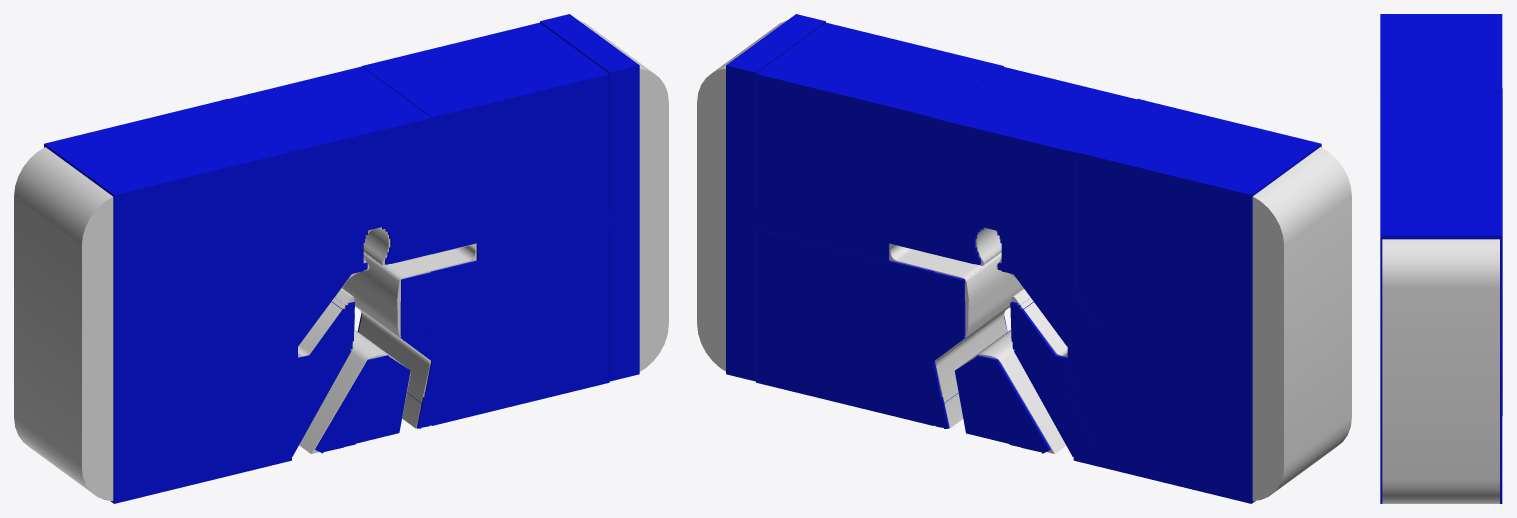
File: wall_model_3.fbx
3 renders of one model, left to right at view 1: azimuth 30°, elevation 25°; view 2: azimuth 150°, elevation 25°; view 3: azimuth 270°, elevation 25°, orthographic. The views are drawn at different scales.
Parts seen in each view (by area): view 1: Cube.001, 23CUR, Cube.006, Cube.007, Cube.005, Cube.003, Cube.002, Cube.018, Cube.008, Cube.004, Cube.017, Cube.019 (+5 smaller); view 2: Cube.001, 23CUR, Cube.006, Cube.007, Cube.005, Cube.003, Cube.018, Cube.008, Cube.019, Cube.002, Cube.025, Cube.011 (+6 smaller); view 3: 23CUR, Cube.001, Cube.006, Cube.005, Cube.003, Cube.004.
Boxes of the visible parts, <box> form: Cube.001: <box>44,100,291,503</box>; 23CUR: <box>14,20,668,500</box>; Cube.006: <box>362,22,609,253</box>; Cube.007: <box>431,229,609,425</box>; Cube.005: <box>229,66,431,247</box>; Cube.003: <box>540,14,639,381</box>; Cube.002: <box>476,208,619,260</box>; Cube.018: <box>298,231,363,286</box>; Cube.008: <box>292,340,351,456</box>; Cube.004: <box>221,98,297,430</box>; Cube.017: <box>348,390,399,445</box>; Cube.019: <box>298,248,356,345</box>; Cube.001: <box>1073,100,1321,503</box>; 23CUR: <box>697,20,1351,500</box>; Cube.006: <box>756,22,1003,251</box>; Cube.007: <box>756,229,934,425</box>; Cube.005: <box>915,67,1136,249</box>; Cube.003: <box>726,14,825,381</box>; Cube.018: <box>1001,228,1076,289</box>; Cube.008: <box>1014,340,1096,456</box>; Cube.019: <box>1014,247,1097,346</box>; Cube.002: <box>755,210,889,260</box>; Cube.025: <box>923,208,975,264</box>; Cube.011: <box>922,270,962,341</box>; 23CUR: <box>1382,239,1499,503</box>; Cube.001: <box>1380,14,1502,88</box>; Cube.006: <box>1380,148,1502,222</box>; Cube.005: <box>1380,88,1502,240</box>; Cube.003: <box>1380,223,1502,503</box>; Cube.004: <box>1380,89,1502,148</box>.
Bounding box in the file's own units: 500 × 253 × 104.
